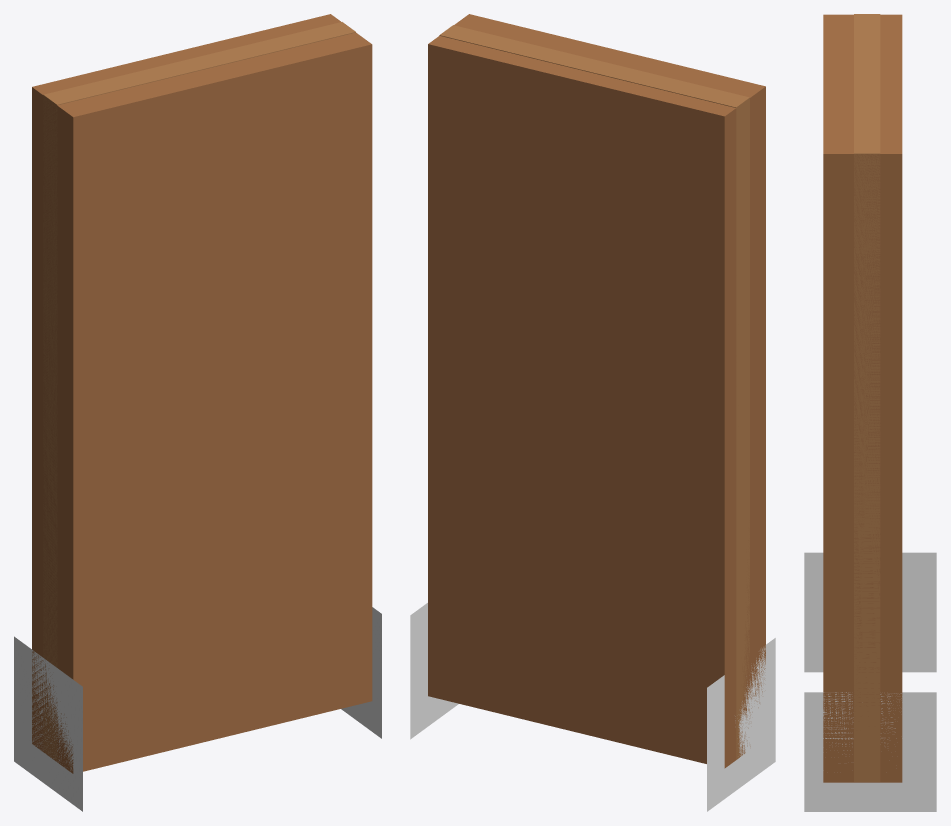
The model's file is DOOR.fbx.
3 views of the same model, side by side, from view 1: azimuth 30°, elevation 25°; view 2: azimuth 150°, elevation 25°; view 3: azimuth 270°, elevation 25° (orthographic). The views are drawn at different scales.
Visible parts, largest first — view 1: CTRL_Hole, DoorFrame, CTRL_Baseboard; view 2: CTRL_Hole, DoorFrame, CTRL_Baseboard; view 3: CTRL_Hole, DoorFrame, CTRL_Baseboard.
Boxes of the visible parts, x1,y1,x2,y2 form: CTRL_Hole: [32, 14, 372, 773]; DoorFrame: [43, 22, 355, 761]; CTRL_Baseboard: [14, 607, 381, 811]; CTRL_Hole: [428, 14, 765, 768]; DoorFrame: [439, 25, 749, 759]; CTRL_Baseboard: [410, 603, 775, 811]; CTRL_Hole: [823, 14, 902, 782]; DoorFrame: [854, 14, 880, 781]; CTRL_Baseboard: [804, 552, 936, 811].
Size of the model in its own units: 100 by 220 by 40.
